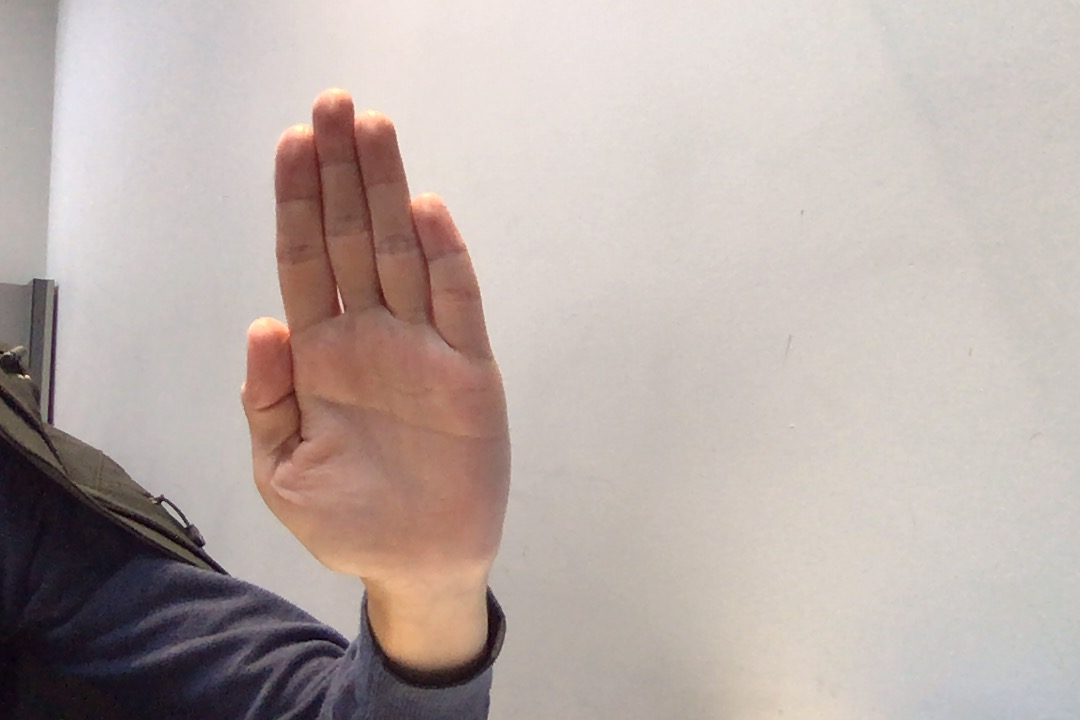palmhand: (214, 70, 554, 601)
